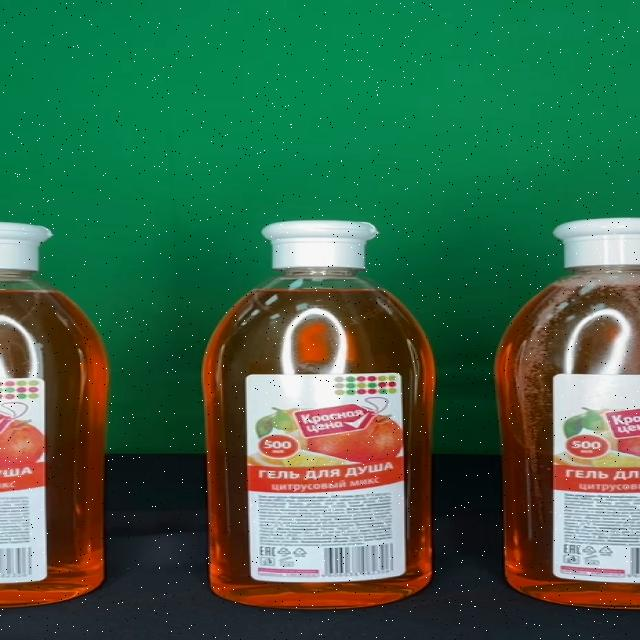Bottle: (202, 222, 437, 610)
Cap: (260, 221, 380, 270)
